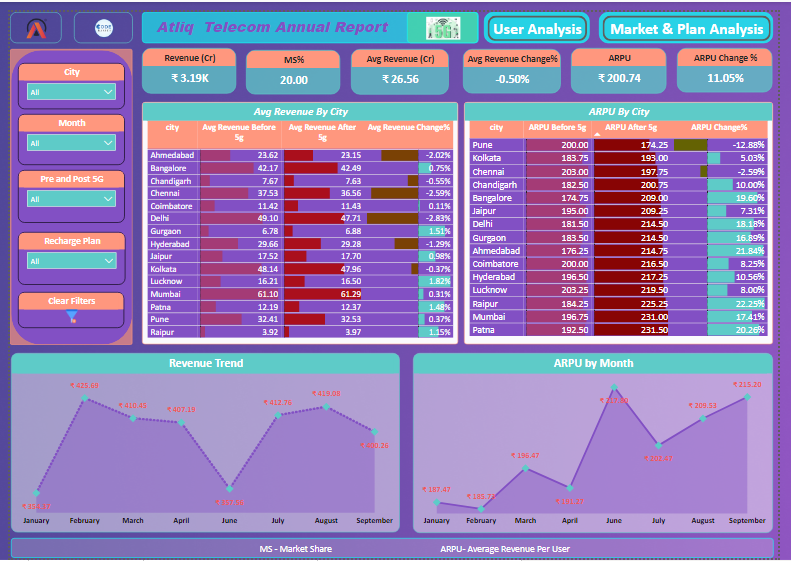

This screenshot's page, from the dashboard's own definition file:
{"tool":"powerbi","page":{"name":"Revenue Analysis","canvas":[1280,910],"ordinal":0},"visuals":[{"type":"card","title":"Avg Revenue (Cr)","fields":{"Values":["key measures.Avg Revenue"]},"box":[568.1,61.5,162.6,76.1],"z":0},{"type":"card","title":"ARPU","fields":{"Values":["key measures.ARPU"]},"box":[935,60.5,159.5,76.1],"z":1000},{"type":"card","title":"Avg Revenue Change%","fields":{"Values":["key measures.Avg Revenue Change%"]},"box":[755.7,61.5,162.6,74],"z":2000},{"type":"card","title":"ARPU Change %","fields":{"Values":["key measures.ARPU Change%"]},"box":[1112.2,60.5,159.5,74],"z":3000},{"type":"card","title":"Revenue (Cr)","fields":{"Values":["key measures.Total Revenue"]},"box":[219.9,60.5,157.4,76.1],"z":4000},{"type":"card","title":"MS%","fields":{"Values":["key measures.MS%"]},"box":[394,63.6,157.4,74],"z":5000},{"type":"image","box":[0,0,86.4,52.1],"z":6000},{"type":"textbox","box":[219.6,0,561.3,52.5],"z":7000},{"type":"image","box":[106.5,0,98.2,52.1],"z":8000},{"type":"shape","box":[0,61,203.8,493],"z":9000},{"type":"slicer","title":"City","fields":{"Values":["dim_cities.city_name"]},"box":[13.9,84.6,177.8,77.1],"z":10000},{"type":"slicer","title":"Month","fields":{"Values":["dim_date.month_name"]},"box":[12.9,170.3,177.8,84.6],"z":11000},{"type":"slicer","title":"Pre and Post 5G ","fields":{"Values":["dim_date.before/after_5g"]},"box":[12.9,263.5,177.8,87.8],"z":12000},{"type":"slicer","title":"Recharge Plan ","fields":{"Values":["dim_plan.plan"]},"box":[12.9,366.3,178.9,87.8],"z":13000},{"type":"tableEx","title":"Avg Revenue By City","fields":{"Values":["dim_cities.city_name","key measures.Avg Revenue Before","key measures.Avg Revenue After","key measures.Avg Revenue Change%"]},"box":[219.4,149.6,527.2,403.8],"z":14000},{"type":"tableEx","title":"ARPU By City","fields":{"Values":["dim_cities.city_name","key measures.ARPU Before 5g","key measures.ARPU After 5g","key measures.ARPU Change%"]},"box":[756.5,149.6,514.7,403.8],"z":15000},{"type":"areaChart","title":"Revenue Trend","fields":{"Category":["dim_date.date.Variation.Date Hierarchy.Month"],"Y":["key measures.Total Revenue"]},"box":[1.2,569,648.3,299.3],"z":16000},{"type":"areaChart","fields":{"Category":["dim_date.date.Variation.Date Hierarchy.Month"],"Y":["key measures.ARPU"]},"box":[671.9,567.8,599.8,300.5],"z":17000},{"type":"actionButton","box":[789.4,0,175.7,52.5],"z":18000},{"type":"actionButton","box":[981.2,0,290.3,52.5],"z":19000},{"type":"image","box":[662.2,0,118.3,52.3],"z":20000},{"type":"image","title":"Clear  Filters","box":[13.9,465.9,176.7,60],"z":21000},{"type":"textbox","box":[1.2,876.6,1270.5,33.1],"z":21001}]}

Visuals, with their boxes in screenshot pixels (x1, y1, x2, y2), scaled from the page's 1280x910 canvas onto the 791x561 screenshot:
"Avg Revenue (Cr)" card: {"x1": 351, "y1": 38, "x2": 452, "y2": 85}
"ARPU" card: {"x1": 578, "y1": 37, "x2": 676, "y2": 84}
"Avg Revenue Change%" card: {"x1": 467, "y1": 38, "x2": 567, "y2": 84}
"ARPU Change %" card: {"x1": 687, "y1": 37, "x2": 786, "y2": 83}
"Revenue (Cr)" card: {"x1": 136, "y1": 37, "x2": 233, "y2": 84}
"MS%" card: {"x1": 243, "y1": 39, "x2": 341, "y2": 85}
image: {"x1": 0, "y1": 0, "x2": 53, "y2": 32}
textbox: {"x1": 136, "y1": 0, "x2": 483, "y2": 32}
image: {"x1": 66, "y1": 0, "x2": 126, "y2": 32}
shape: {"x1": 0, "y1": 38, "x2": 126, "y2": 342}
"City" slicer: {"x1": 9, "y1": 52, "x2": 118, "y2": 100}
"Month" slicer: {"x1": 8, "y1": 105, "x2": 118, "y2": 157}
"Pre and Post 5G " slicer: {"x1": 8, "y1": 162, "x2": 118, "y2": 217}
"Recharge Plan " slicer: {"x1": 8, "y1": 226, "x2": 119, "y2": 280}
"Avg Revenue By City" tableEx: {"x1": 136, "y1": 92, "x2": 461, "y2": 341}
"ARPU By City" tableEx: {"x1": 467, "y1": 92, "x2": 786, "y2": 341}
"Revenue Trend" areaChart: {"x1": 1, "y1": 351, "x2": 401, "y2": 535}
areaChart - dim_date.date.Variation.Date Hierarchy.Month x key measures.ARPU: {"x1": 415, "y1": 350, "x2": 786, "y2": 535}
actionButton: {"x1": 488, "y1": 0, "x2": 596, "y2": 32}
actionButton: {"x1": 606, "y1": 0, "x2": 786, "y2": 32}
image: {"x1": 409, "y1": 0, "x2": 482, "y2": 32}
"Clear  Filters" image: {"x1": 9, "y1": 287, "x2": 118, "y2": 324}
textbox: {"x1": 1, "y1": 540, "x2": 786, "y2": 560}
